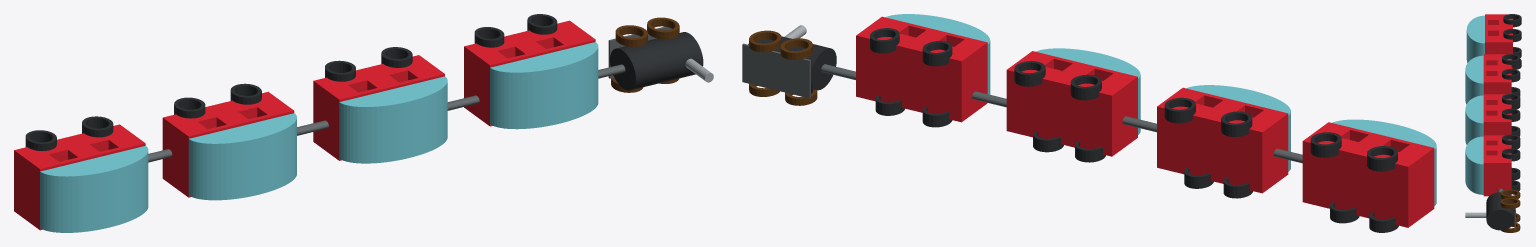
The model's file is tinker.obj.
3 renders of one model, left to right at view 1: azimuth 30°, elevation 25°; view 2: azimuth 150°, elevation 25°; view 3: azimuth 270°, elevation 25°, orthographic. The views are drawn at different scales.
Visible parts, largest first — view 1: group_0_7720667, group_0_15277357, group_0_2829873, group_0_6306067, group_0_6383466; view 2: group_0_15277357, group_0_2829873, group_0_7720667, group_0_6383466, group_0_6306067; view 3: group_0_15277357, group_0_7720667, group_0_2829873, group_0_6306067, group_0_10988977, group_0_6383466.
Part boxes in pixels (x1,y1,x2,y2): group_0_7720667: (40, 42, 598, 232); group_0_15277357: (14, 20, 595, 230); group_0_2829873: (25, 14, 703, 150); group_0_6306067: (611, 17, 679, 92); group_0_6383466: (148, 26, 671, 162); group_0_15277357: (856, 16, 1434, 227); group_0_2829873: (748, 28, 1398, 232); group_0_7720667: (885, 14, 1436, 205); group_0_6383466: (742, 43, 1302, 163); group_0_6306067: (749, 30, 817, 105); group_0_15277357: (1483, 14, 1512, 196); group_0_7720667: (1465, 15, 1484, 194); group_0_2829873: (1486, 14, 1521, 230); group_0_6306067: (1500, 189, 1520, 232); group_0_10988977: (1465, 212, 1486, 217); group_0_6383466: (1497, 188, 1515, 230).
Bounding box in the file's own units: 296 × 38 × 40.
